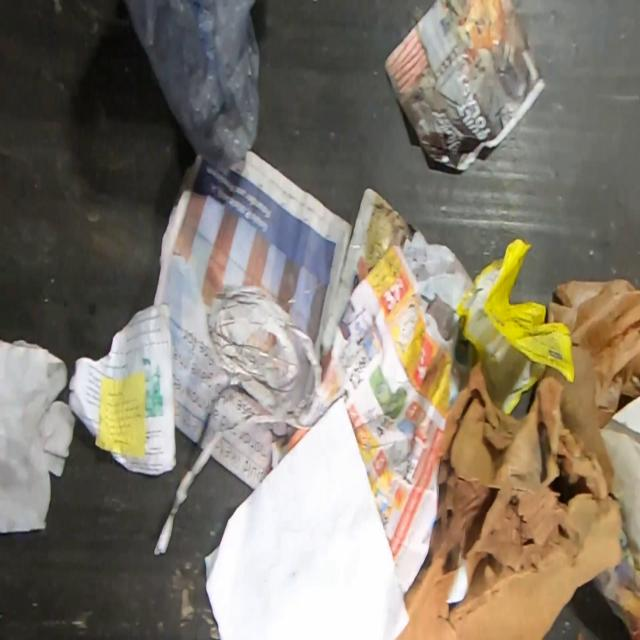cardboard: (394, 276, 640, 640), (598, 396, 640, 562)
soft_plastic: (121, 0, 262, 173)
